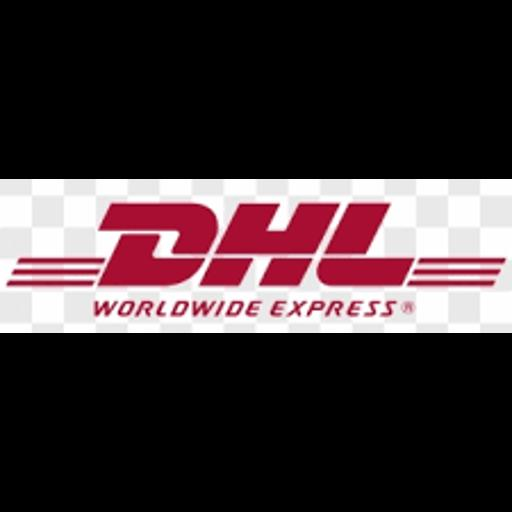DHL: (0, 179, 512, 333)
